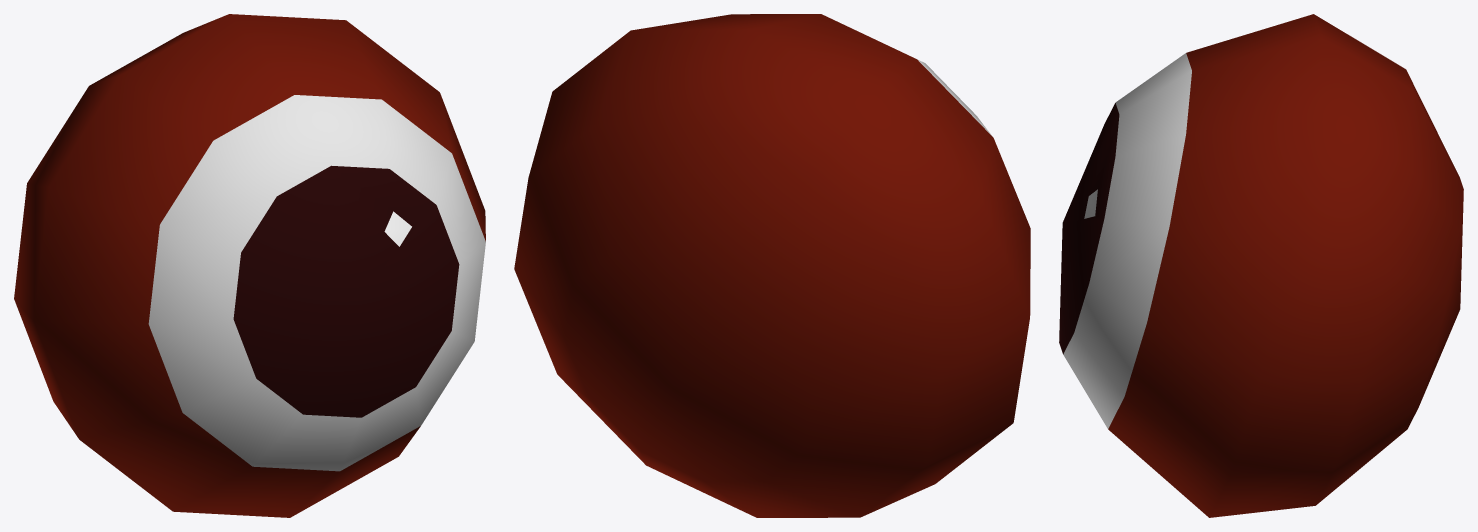
Rendered from Eyes_Cyclop.glb.
The picture shows the model from 3 angles, left to right: view 1: azimuth 30°, elevation 25°; view 2: azimuth 150°, elevation 25°; view 3: azimuth 270°, elevation 25°; orthographic projection. The views are drawn at different scales.
Parts seen in each view (by area): view 1: Eyes_Cyclop; view 2: Eyes_Cyclop; view 3: Eyes_Cyclop.
Boxes of the visible parts, x1,y1,x2,y2 form: Eyes_Cyclop: (14, 14, 485, 517); Eyes_Cyclop: (514, 14, 1030, 517); Eyes_Cyclop: (1059, 14, 1463, 517).
Size of the model in its own units: 0.2703 by 0.2628 by 0.2115.
Materials: 1 (1 with a texture image).
